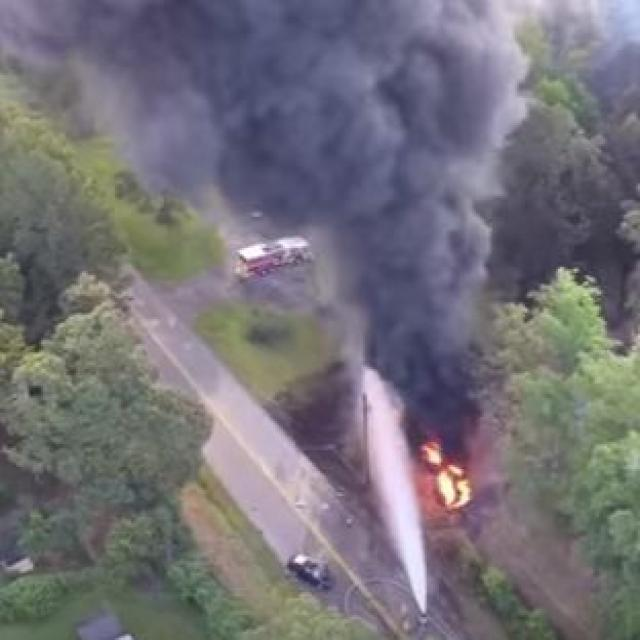Fire: (408, 442, 485, 518)
Smoke: (286, 0, 504, 446), (68, 0, 304, 209)
